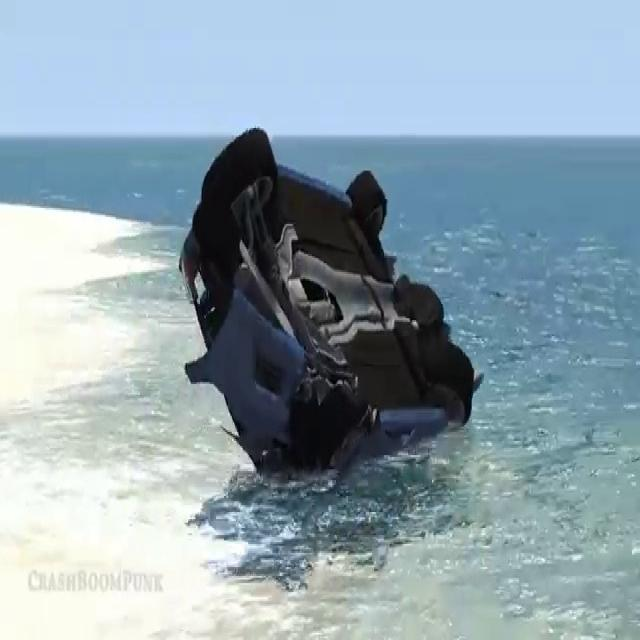severe: (173, 112, 485, 476)
